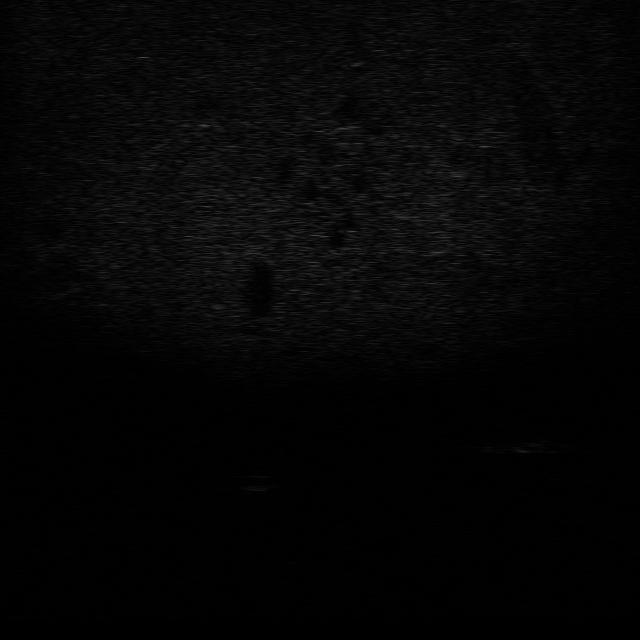ball: (238, 467, 276, 493)
human body: (480, 427, 576, 457)
